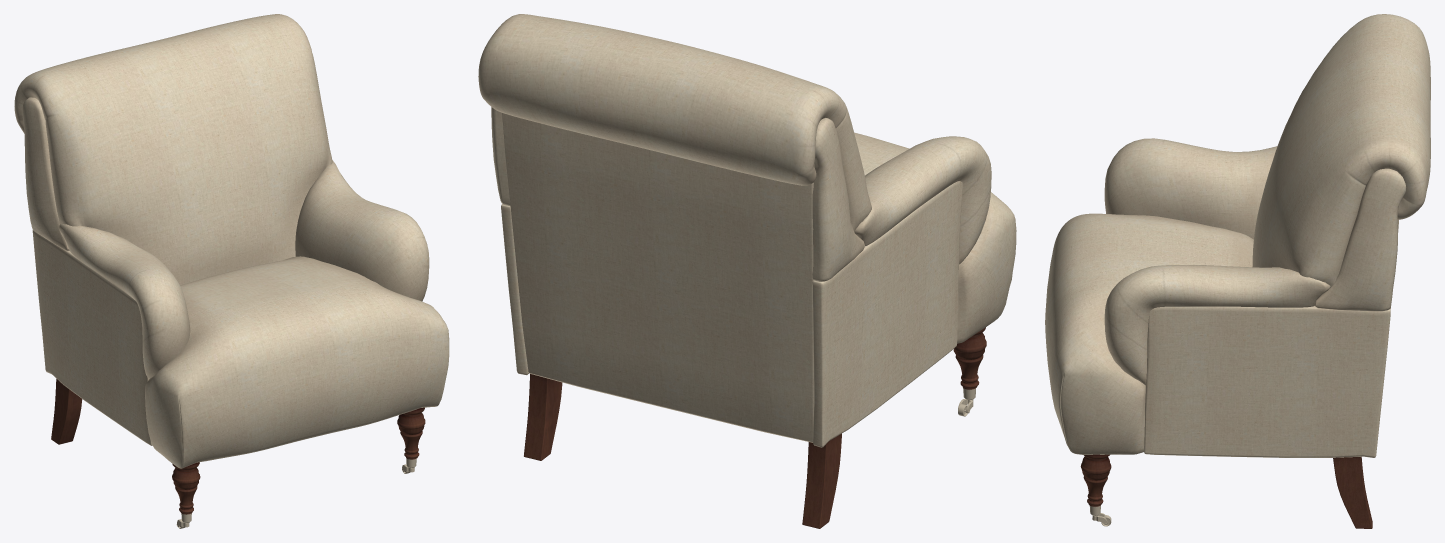
The model's file is office_chair_B075X4YDCM.glb.
The picture shows the model from 3 angles, left to right: view 1: azimuth 30°, elevation 25°; view 2: azimuth 150°, elevation 25°; view 3: azimuth 270°, elevation 25°; orthographic projection. The views are drawn at different scales.
Visible parts, largest first — view 1: RootNode; view 2: RootNode; view 3: RootNode.
Boxes of the visible parts, left/top/right/bottom form: RootNode: left=14, top=14, right=449, bottom=528; RootNode: left=478, top=14, right=1016, bottom=528; RootNode: left=1045, top=14, right=1430, bottom=528.
Bounding box in the file's own units: 0.7661 × 0.9444 × 0.8418.
Materials: 1 (1 with a texture image).
